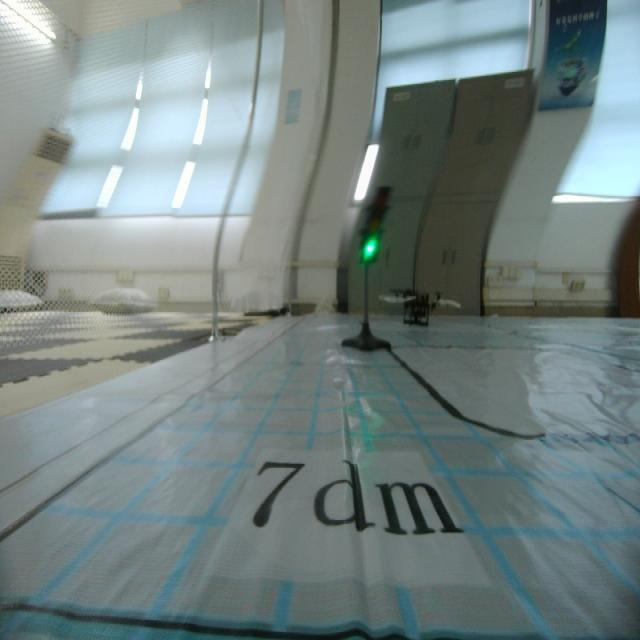green: (358, 184, 388, 265)
